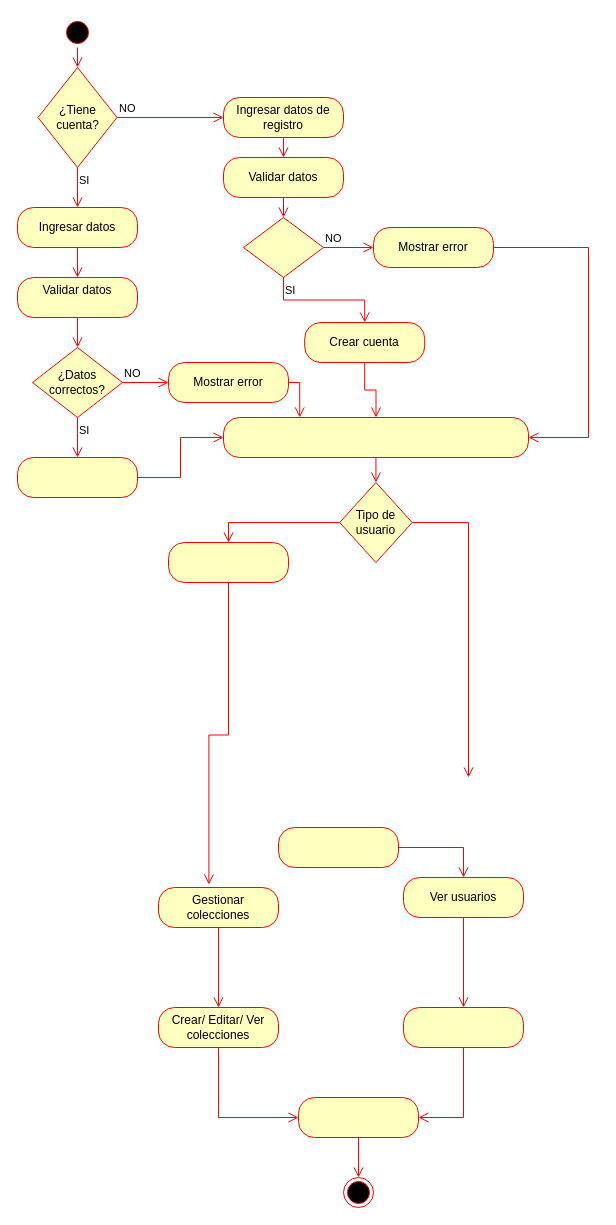
This 616x1225 diagram has some shape labels left out. Each missing label, with the centre of its shape:
Administrador: the point at 338,847
Cerrar sesión: the point at 358,1117
Continua: the point at 77,477
Getionar usuarios: the point at 463,1027
Mostrar panel de usuario: the point at 375,437
Usuario: the point at 228,562
¿Datos válidos?: the point at 283,247
